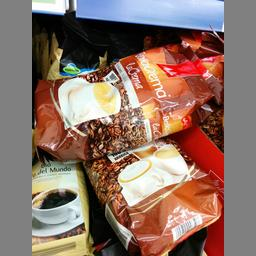coffee: (36, 48, 202, 153), (80, 137, 219, 254), (30, 158, 92, 252)
